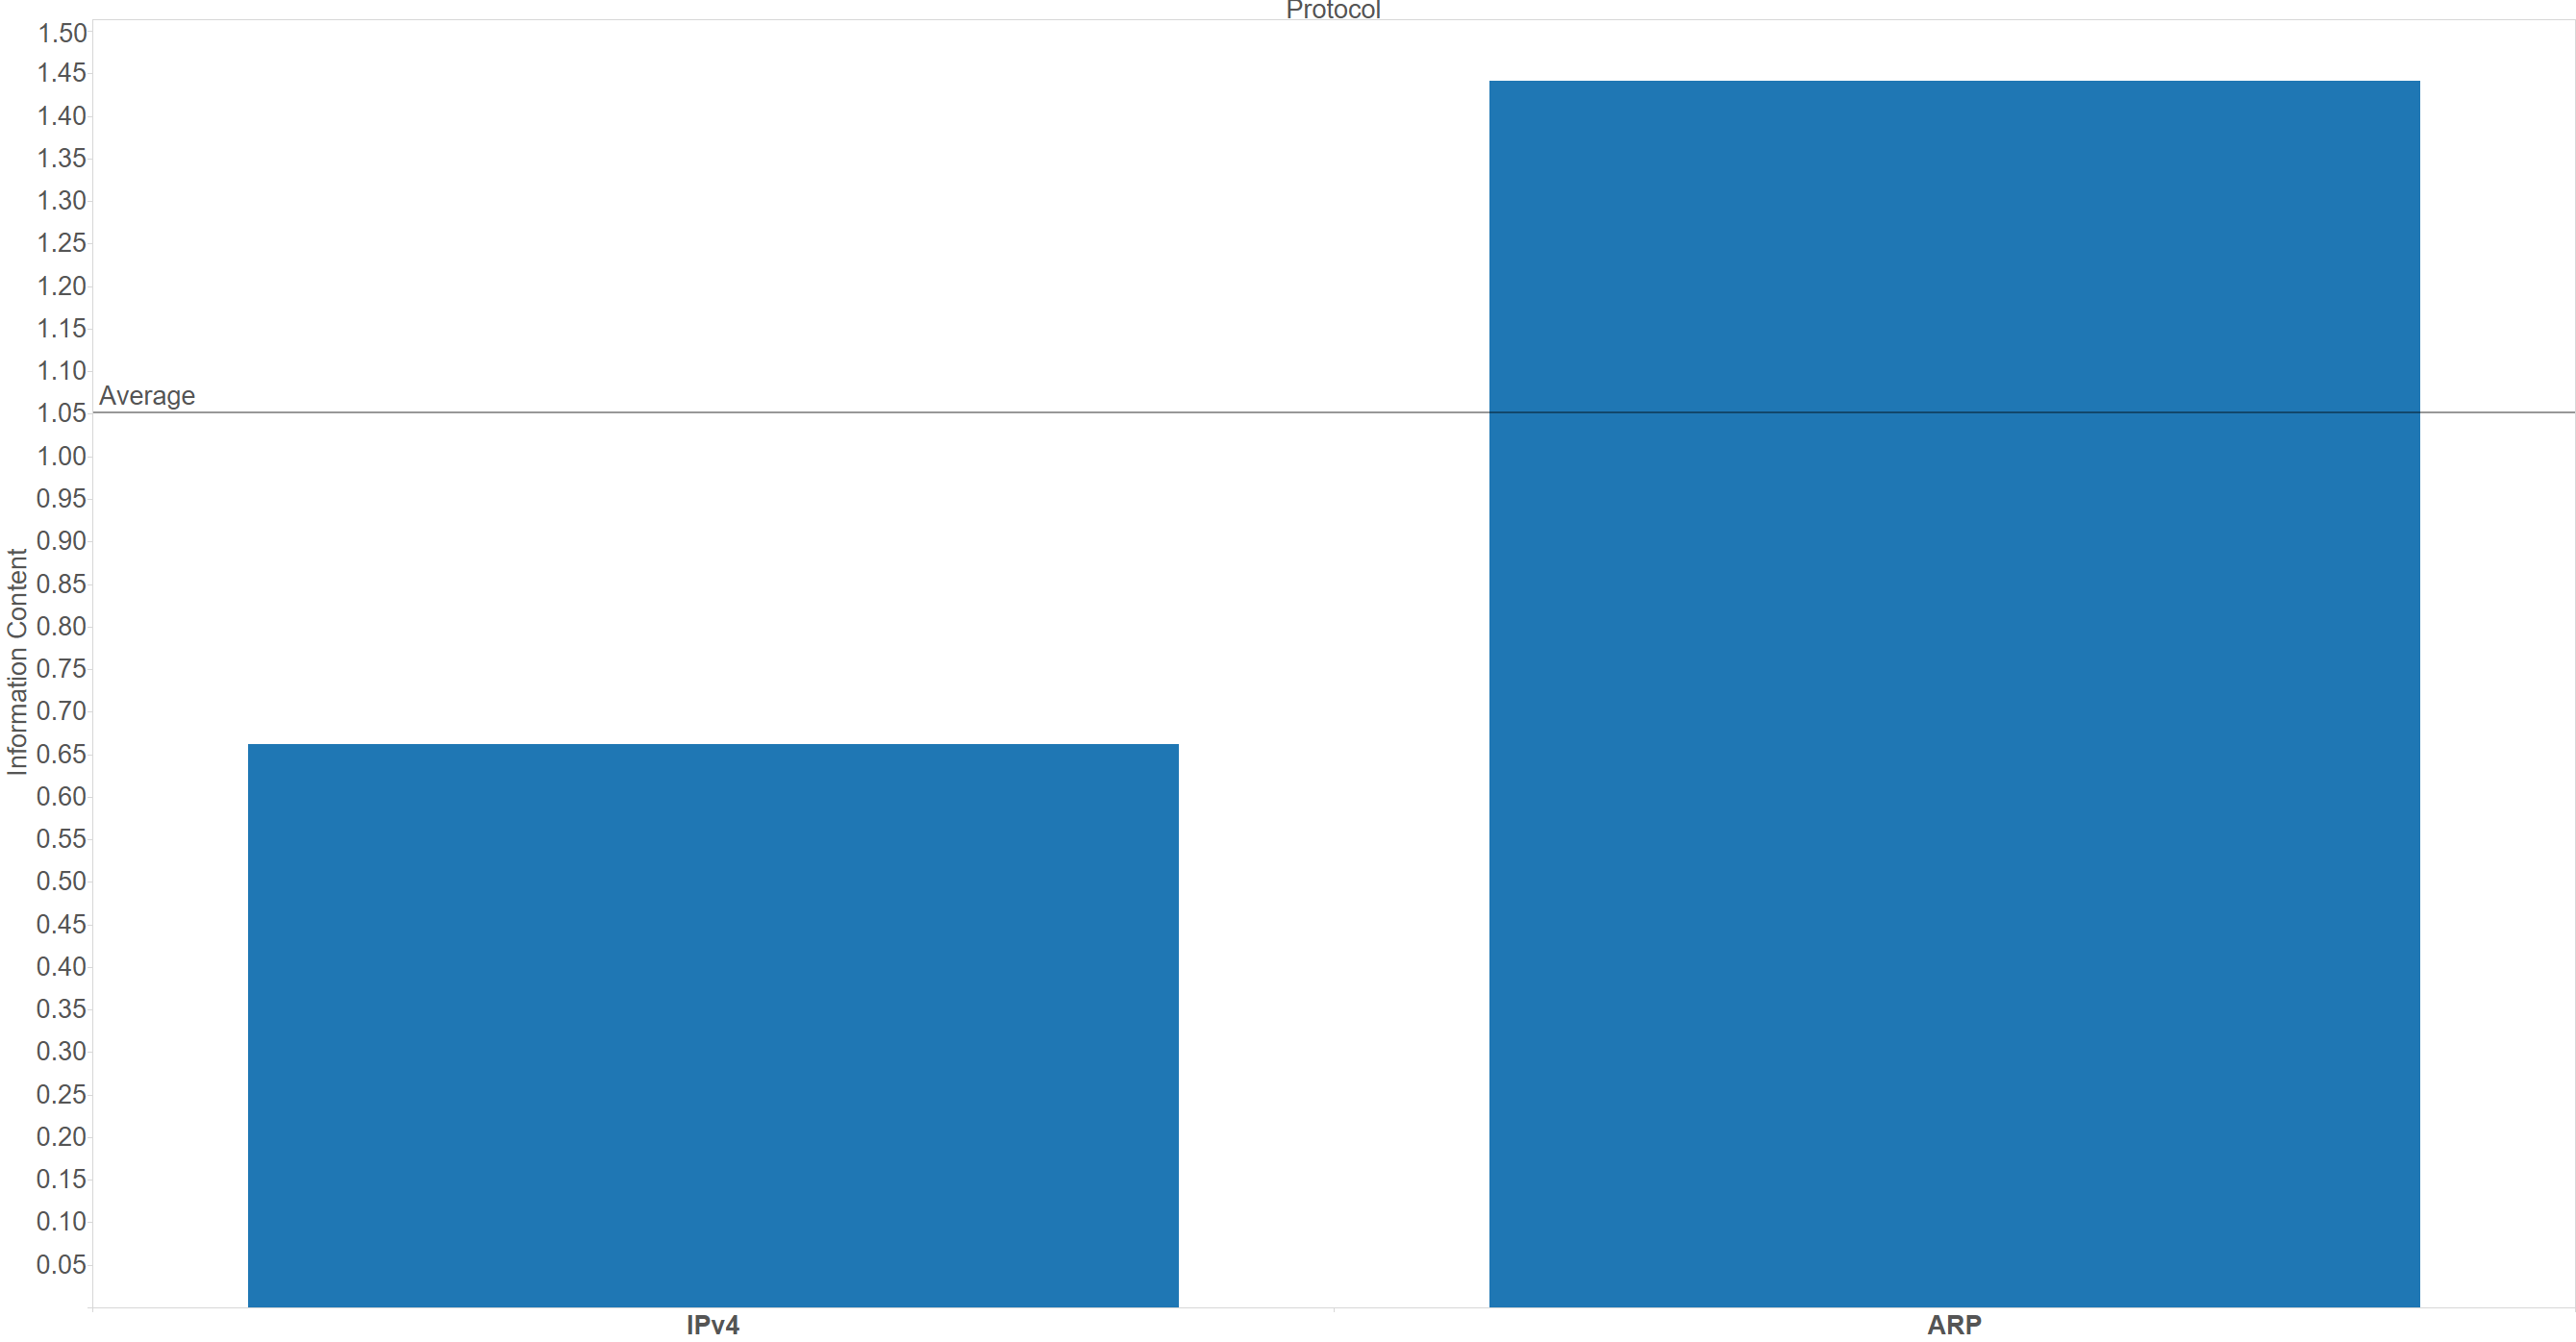

This screenshot's page, from the dashboard's own definition file:
{"tool":"tableau","page":{"name":"Protocol PDF Dashboard","canvas":[1000,1000],"units":"permille","ordinal":2},"visuals":[{"type":"worksheet","title":"Protocol PDF","mark":"Bar","rows":["Calculation_558446359775064070"],"cols":["protocol"],"box":[0,0,1000,1000]}]}

Visuals, with their boxes on the dashboard's canvas, which has no fixed pixel size, in thousandths of its width and height (x1, y1, x2, y2). These are canvas units, not pixel positions in the 2576x1342 screenshot, which may show the page scaled, cropped or inside an application window:
"Protocol PDF" worksheet (Bar marks): (0, 0, 1000, 1000)
